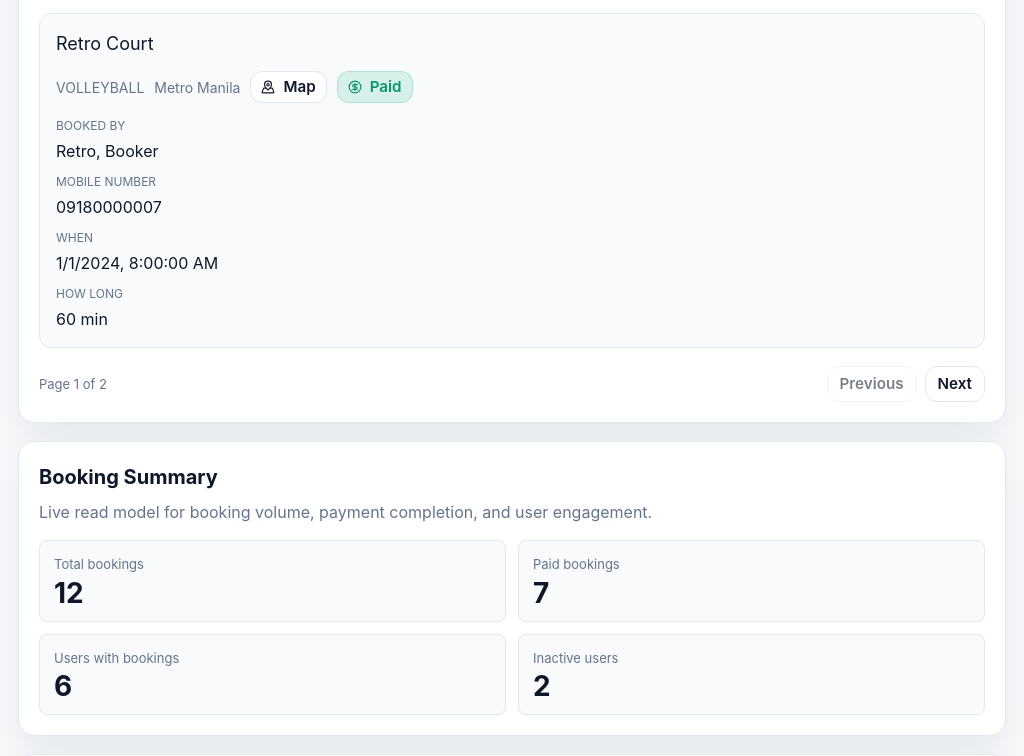
DashboardPage › paginates ongoing reservations and reservation history with five cards per page
The image size is (1024, 756).
(page scrolled)
Step 1. Click the button "Next" → (955, 384), box 924,366 -> 985,402
(page scrolled)
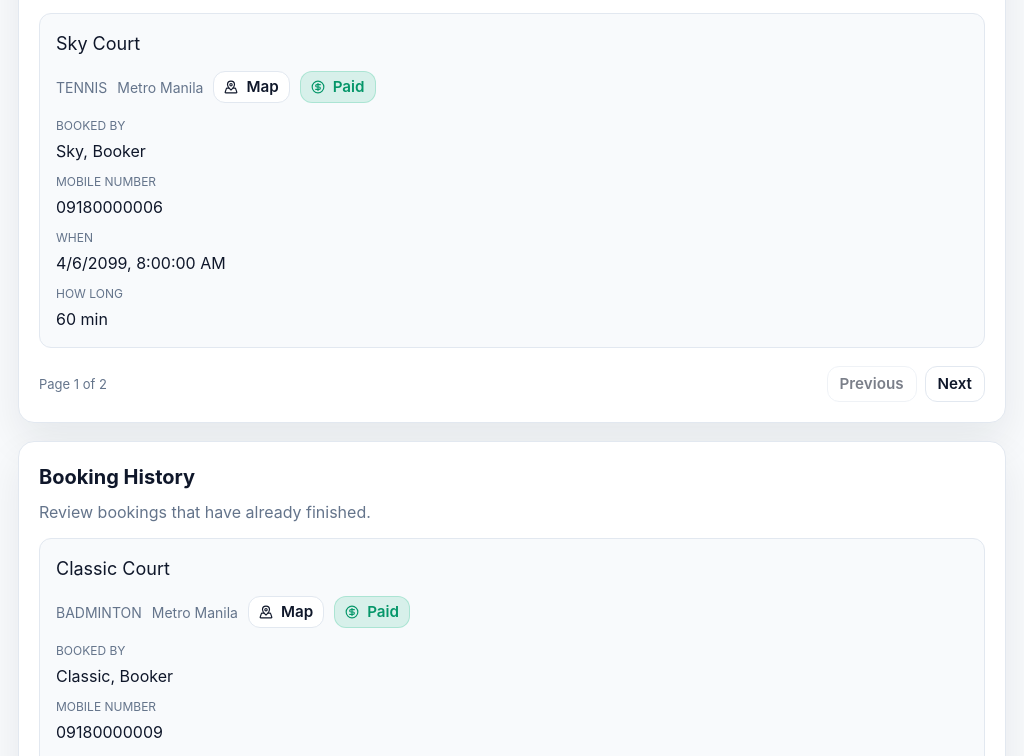
expect the heading "Classic Court" is shown: met, box 56,555 -> 170,582
Step 2. Click the button "Next" → (955, 384), box 924,366 -> 985,402
(page scrolled)
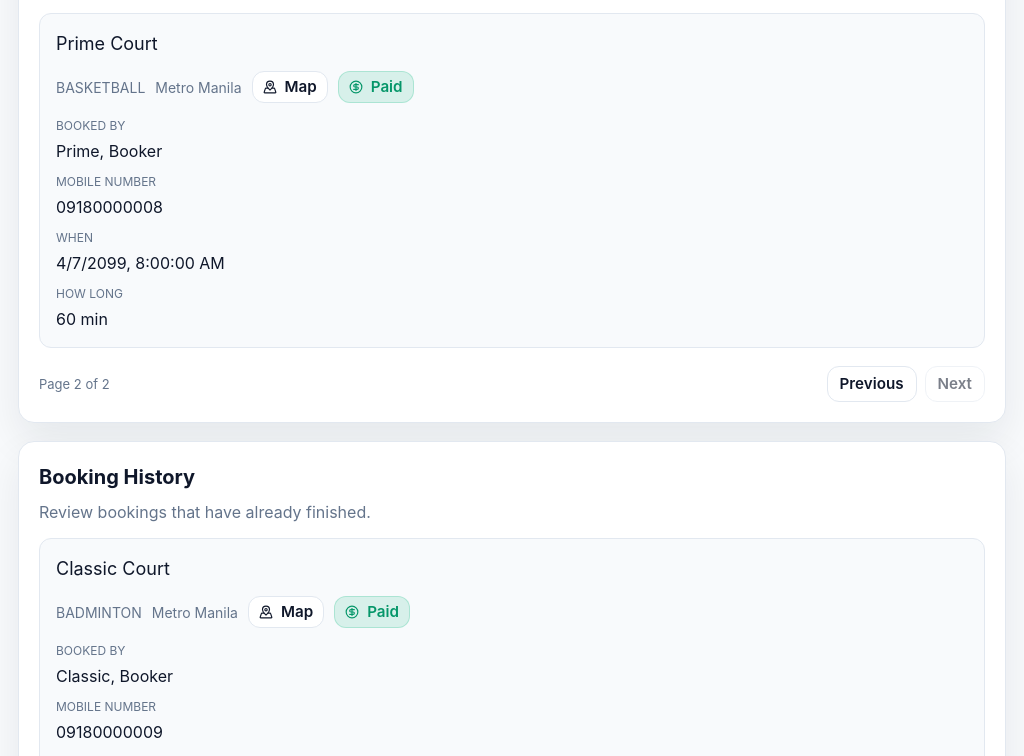
expect the heading "Prime Court" is shown: met, box 56,30 -> 158,57
